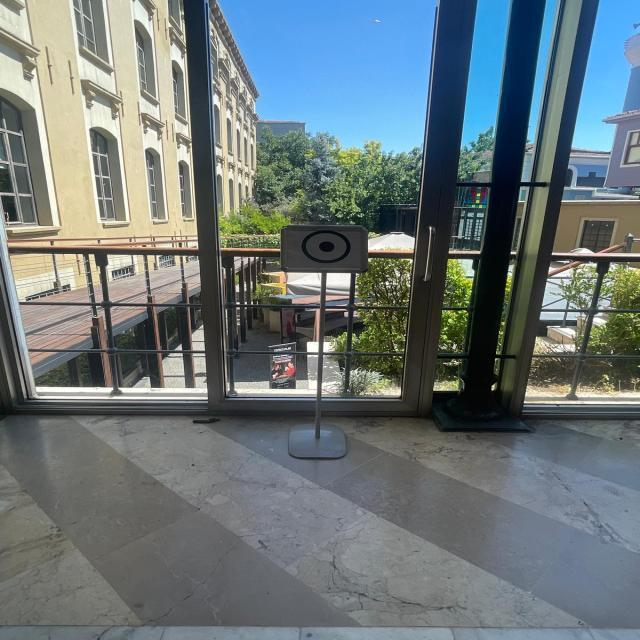Target: (271, 217, 380, 279)
inner: (316, 237, 339, 257)
